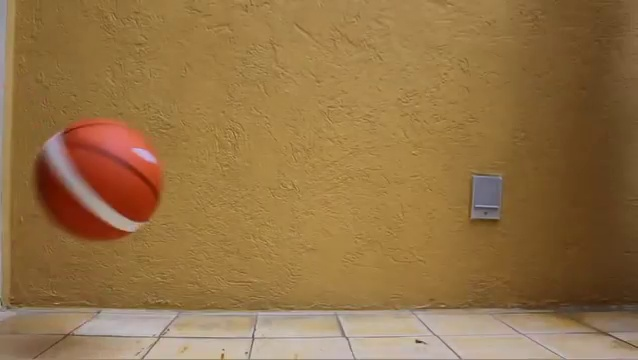ball: (30, 115, 164, 246)
